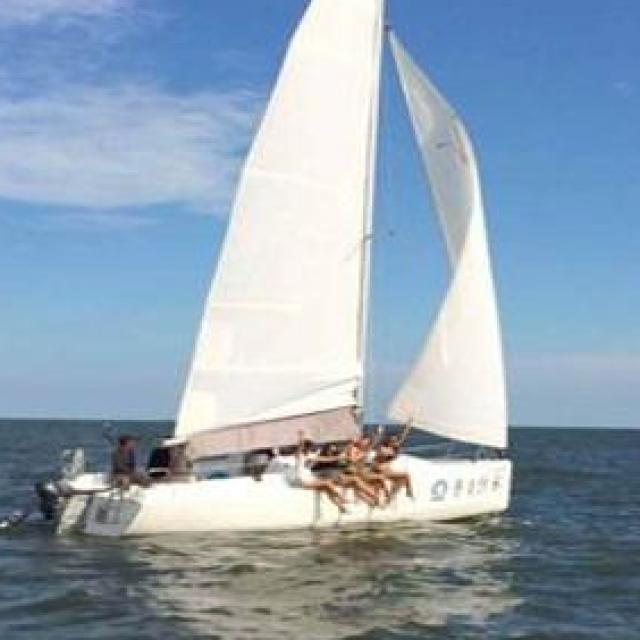sailboat: (27, 0, 524, 547)
